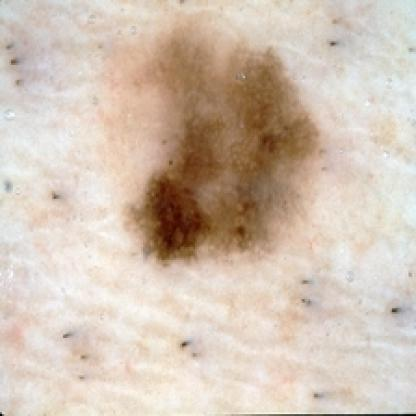Skin_Cancer-Malignant: (117, 26, 325, 277)
